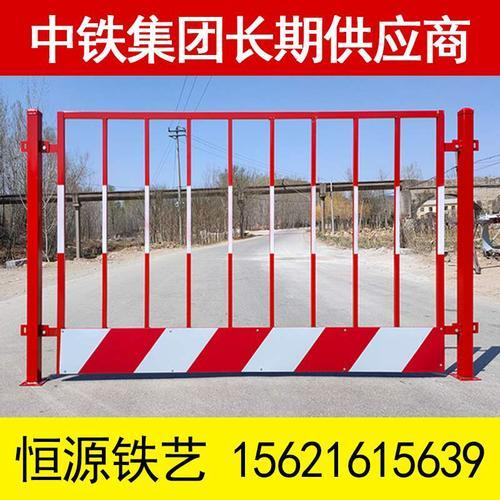sign: (18, 93, 496, 395)
